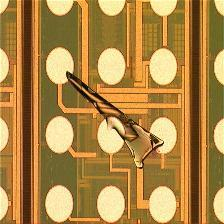COATING BAD: (67, 71, 166, 170)
